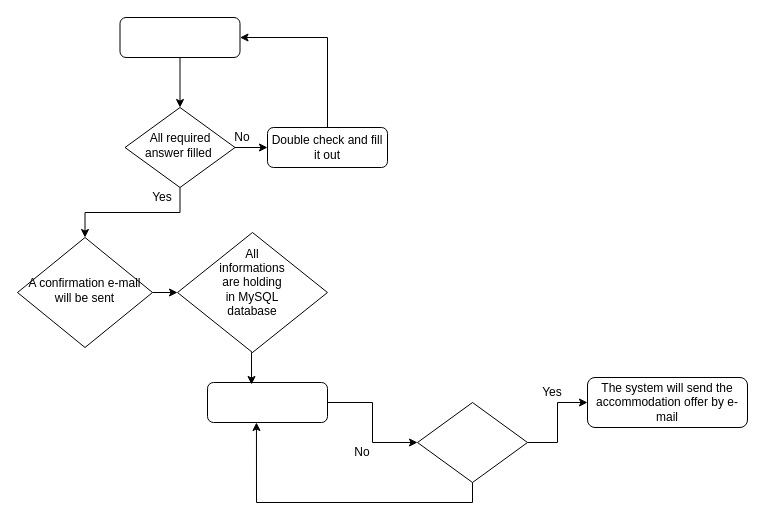
This 765x528 diagram has some shape labels left out. Here are the shapes that lost their labels. From the top down, the centre of each, then its label:
(179,37): Fill the form
(267,402): The system will be searching at Daft
(472,442): If the requirements were found
